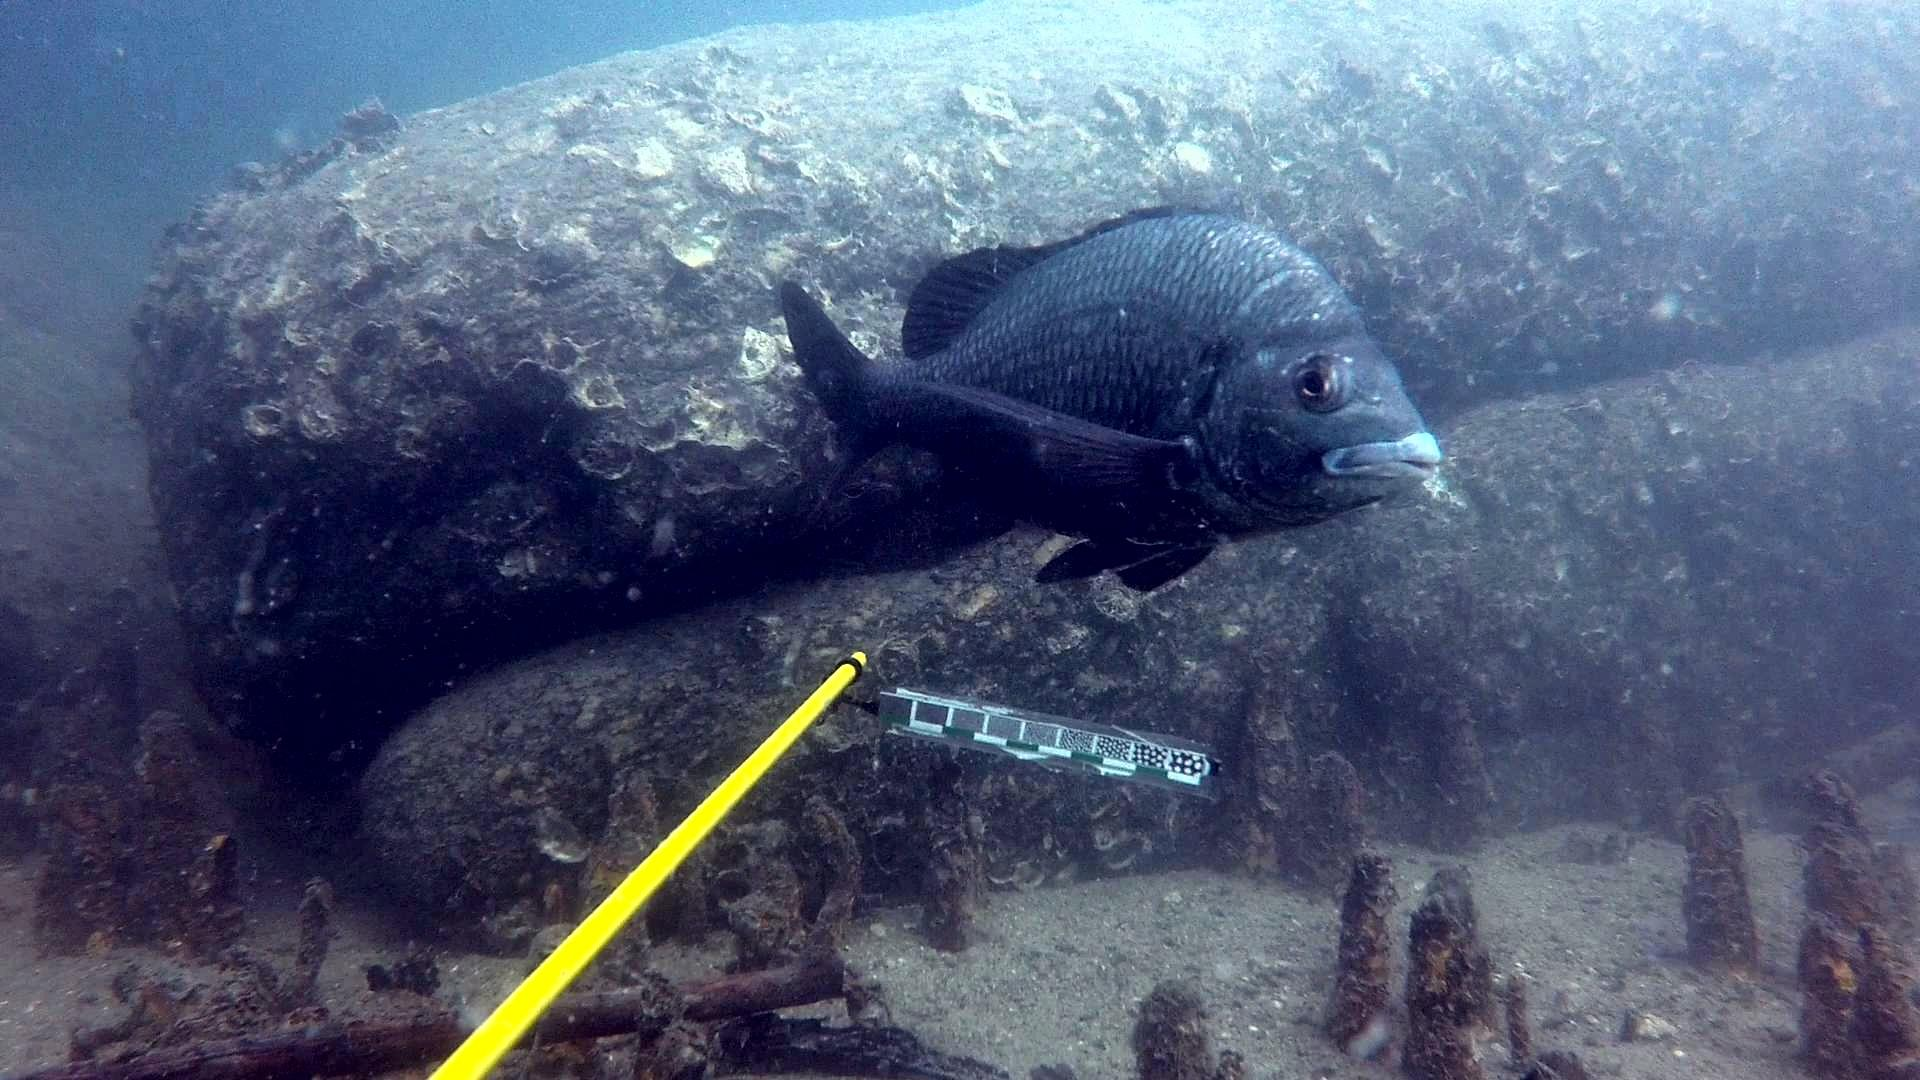acanthopagrus palmaris: (770, 200, 1460, 607)
